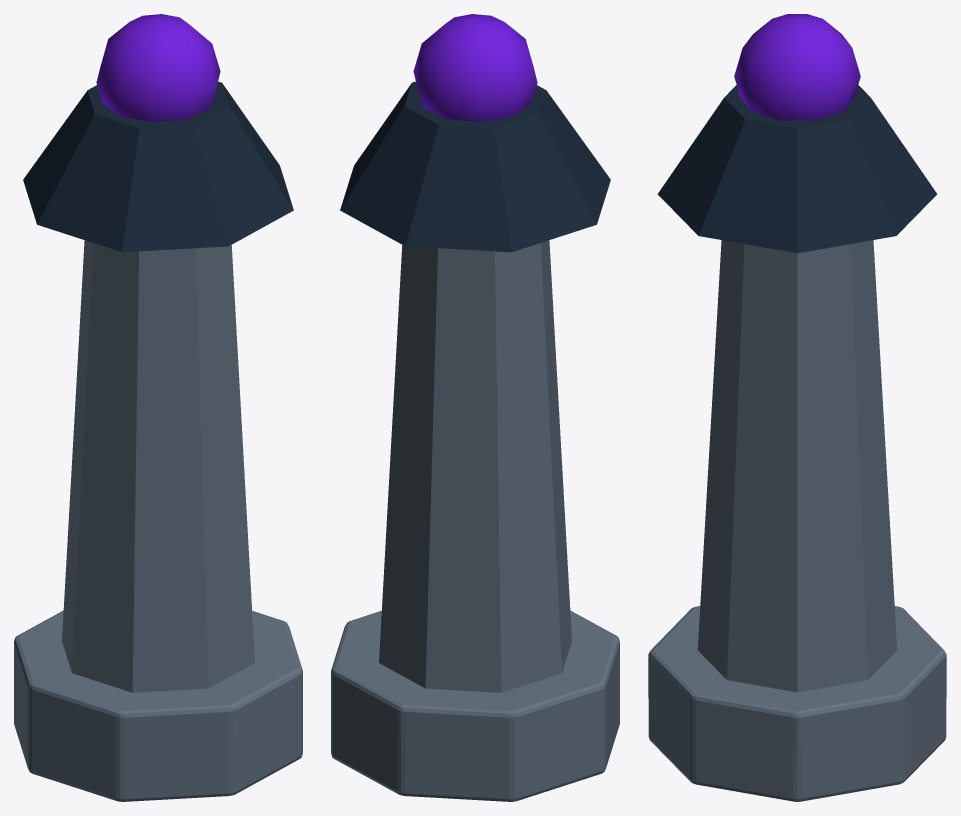
The model's file is necrotic_combat_pillar_lod1.obj.
3 views of the same model, side by side, from view 1: azimuth 30°, elevation 25°; view 2: azimuth 150°, elevation 25°; view 3: azimuth 270°, elevation 25° (orthographic).
Parts seen in each view (by area): view 1: arpg_pillar_lod1_shaft_M_stone, arpg_pillar_lod1_base_M_stone, arpg_pillar_lod1_crown_M_gunmetal, arpg_pillar_lod1_orb_M_purple; view 2: arpg_pillar_lod1_shaft_M_stone, arpg_pillar_lod1_base_M_stone, arpg_pillar_lod1_crown_M_gunmetal, arpg_pillar_lod1_orb_M_purple; view 3: arpg_pillar_lod1_shaft_M_stone, arpg_pillar_lod1_base_M_stone, arpg_pillar_lod1_crown_M_gunmetal, arpg_pillar_lod1_orb_M_purple.
Boxes of the visible parts, x1=… form: arpg_pillar_lod1_shaft_M_stone: x1=62, y1=240, x2=254, y2=692; arpg_pillar_lod1_base_M_stone: x1=14, y1=610, x2=302, y2=801; arpg_pillar_lod1_crown_M_gunmetal: x1=23, y1=81, x2=293, y2=252; arpg_pillar_lod1_orb_M_purple: x1=96, y1=14, x2=220, y2=122; arpg_pillar_lod1_shaft_M_stone: x1=379, y1=240, x2=571, y2=692; arpg_pillar_lod1_base_M_stone: x1=331, y1=610, x2=619, y2=801; arpg_pillar_lod1_crown_M_gunmetal: x1=340, y1=81, x2=610, y2=252; arpg_pillar_lod1_orb_M_purple: x1=413, y1=14, x2=537, y2=122; arpg_pillar_lod1_shaft_M_stone: x1=697, y1=240, x2=897, y2=692; arpg_pillar_lod1_base_M_stone: x1=648, y1=606, x2=946, y2=801; arpg_pillar_lod1_crown_M_gunmetal: x1=657, y1=85, x2=937, y2=253; arpg_pillar_lod1_orb_M_purple: x1=734, y1=14, x2=860, y2=120.
Size of the model in its own units: 0.8943 by 2.39 by 0.8952.
